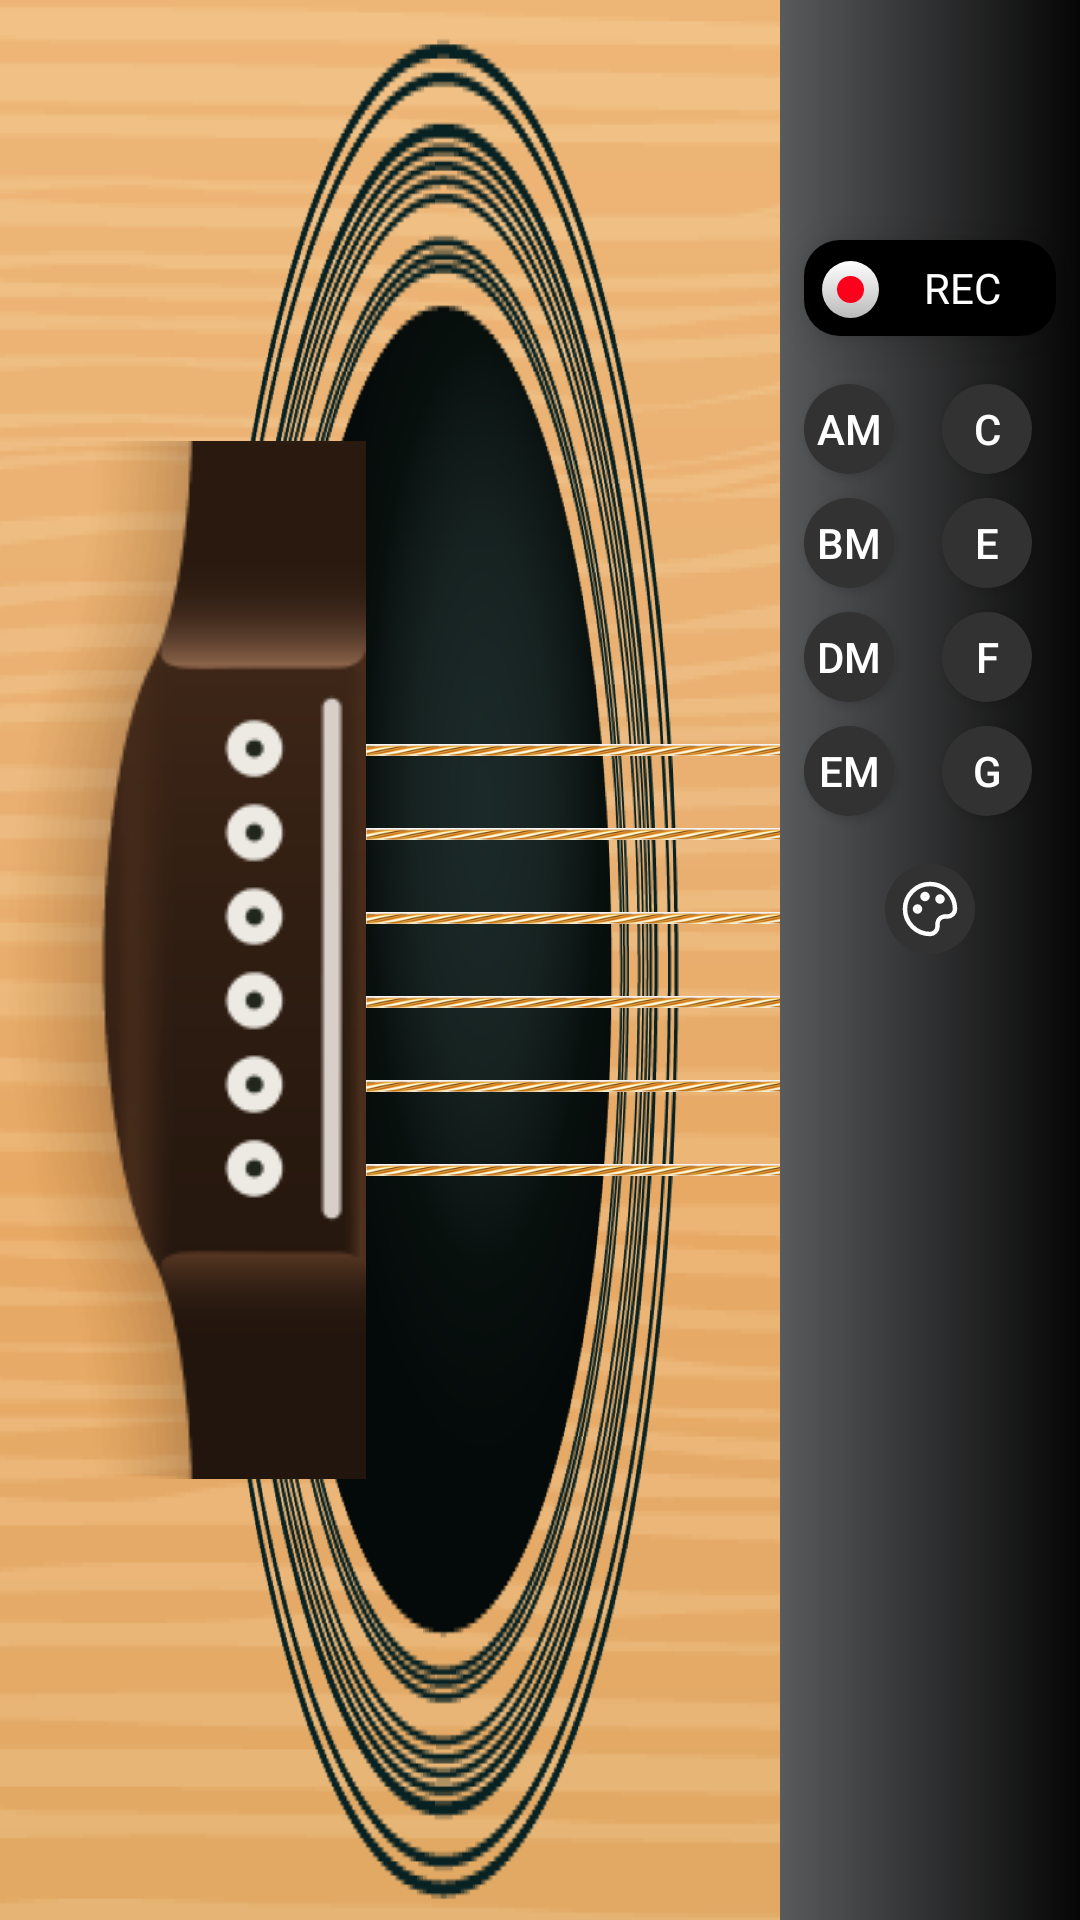

Named icons in this screenshot (1080 × 1920) and their centers, (x=x, y=y):
record play: (x=852, y=288)
style: (x=930, y=909)
